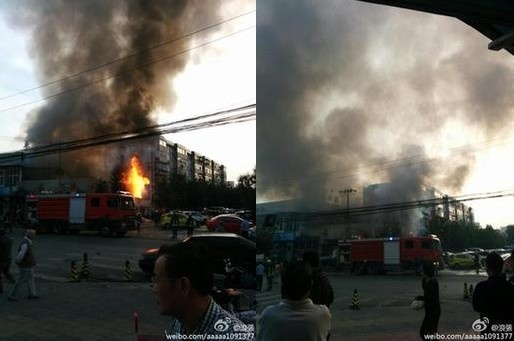fire: (120, 154, 150, 197)
